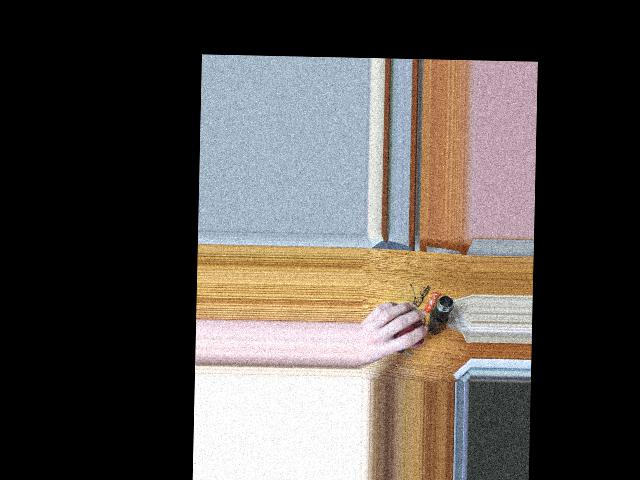onion: (385, 303, 419, 349)
